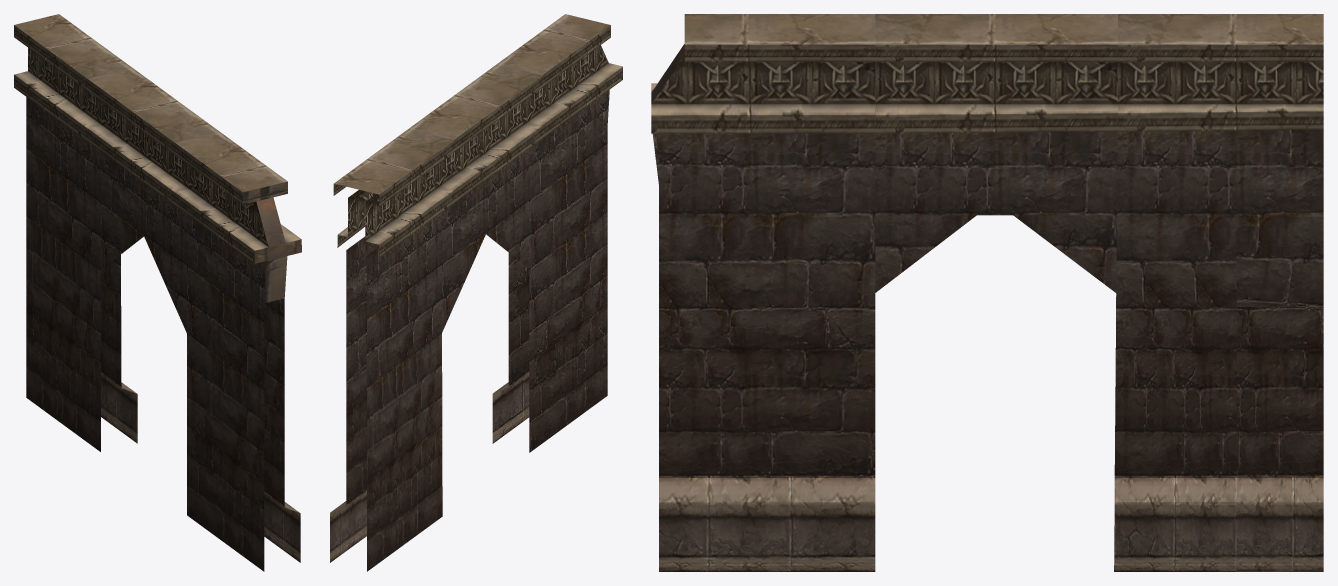
The model's file is blsd_4qiangm_05.FBX.
3 renders of one model, left to right at view 1: azimuth 30°, elevation 25°; view 2: azimuth 150°, elevation 25°; view 3: azimuth 270°, elevation 25°, orthographic. The views are drawn at different scales.
Visible parts, largest first — view 1: blsd_4qiangm_05; view 2: blsd_4qiangm_05; view 3: blsd_4qiangm_05.
Boxes of the visible parts, box(x1,y1,x2,y2) form: blsd_4qiangm_05: box(14, 14, 301, 571); blsd_4qiangm_05: box(330, 14, 622, 571); blsd_4qiangm_05: box(651, 14, 1323, 571).
Bounding box in the file's own units: 103 × 756 × 878.
